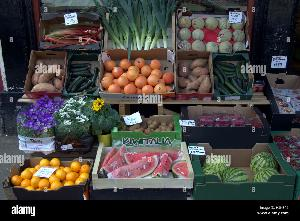cucumber: (216, 54, 252, 99), (231, 78, 247, 94)
kiwi: (118, 112, 179, 136), (152, 120, 159, 128)
melon: (193, 144, 285, 190), (176, 13, 252, 52), (251, 152, 279, 174), (192, 17, 205, 29)
orange: (7, 151, 90, 199), (102, 47, 178, 97), (134, 57, 146, 68), (70, 162, 81, 172)
watermelon: (92, 140, 188, 186), (107, 155, 159, 179)
zucchini: (64, 56, 102, 96), (90, 67, 99, 87)
